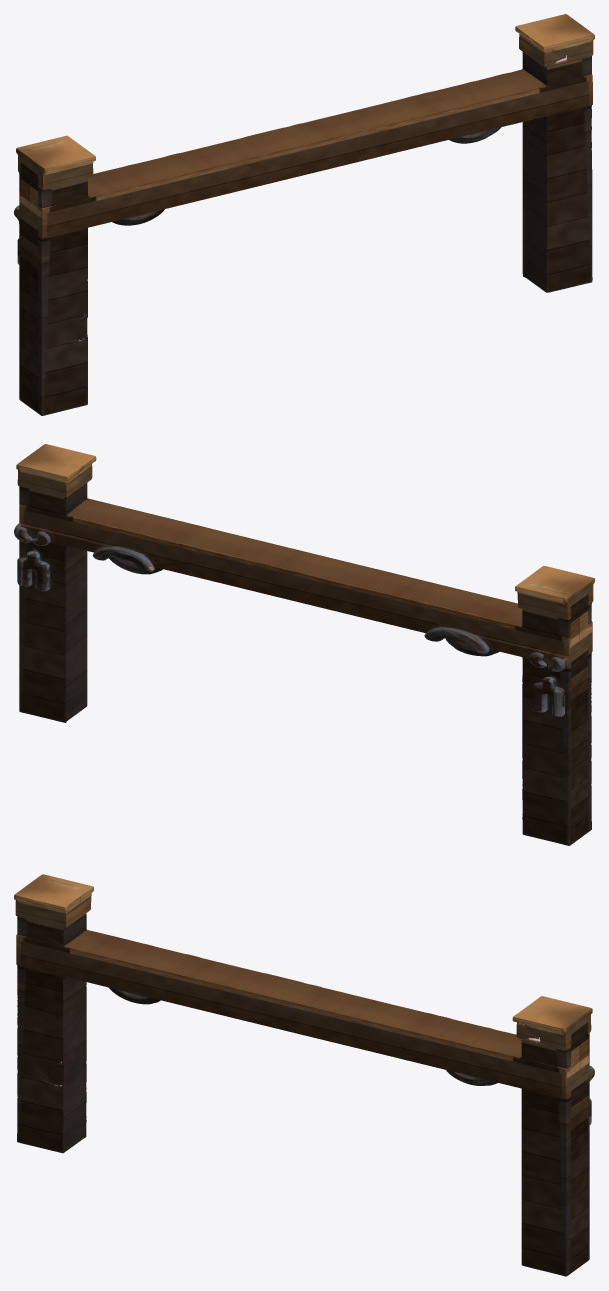
Rendered from scene-1-objects-2-glbData-ed3938f83ba6.glb.
The picture shows the model from 3 angles, top to bottom: view 1: azimuth 30°, elevation 25°; view 2: azimuth 150°, elevation 25°; view 3: azimuth 330°, elevation 25°; orthographic projection.
Visible parts, largest first — view 1: Hitching_Post_Optimized; view 2: Hitching_Post_Optimized; view 3: Hitching_Post_Optimized.
Boxes of the visible parts, x1,y1,x2,y2 form: Hitching_Post_Optimized: (14,14,594,415); Hitching_Post_Optimized: (14,444,594,845); Hitching_Post_Optimized: (14,874,594,1276).
Bounding box in the file's own units: 3 × 1.3 × 0.3068.
Materials: 1 (1 with a texture image).
